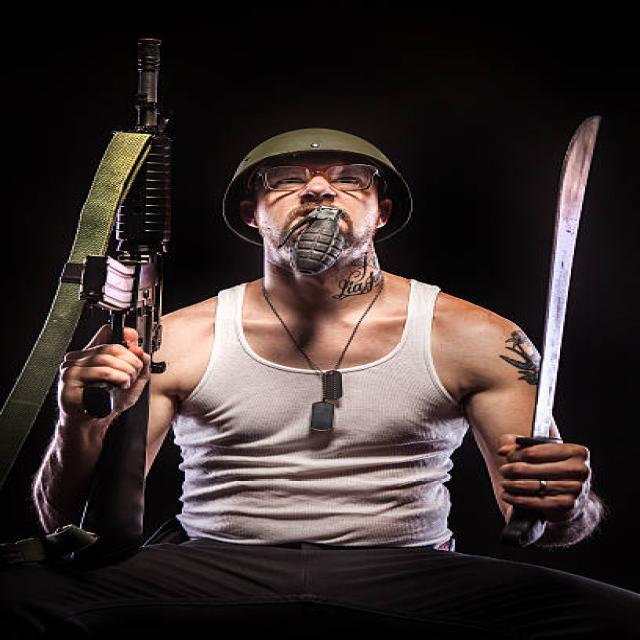grenade: (276, 201, 356, 273)
